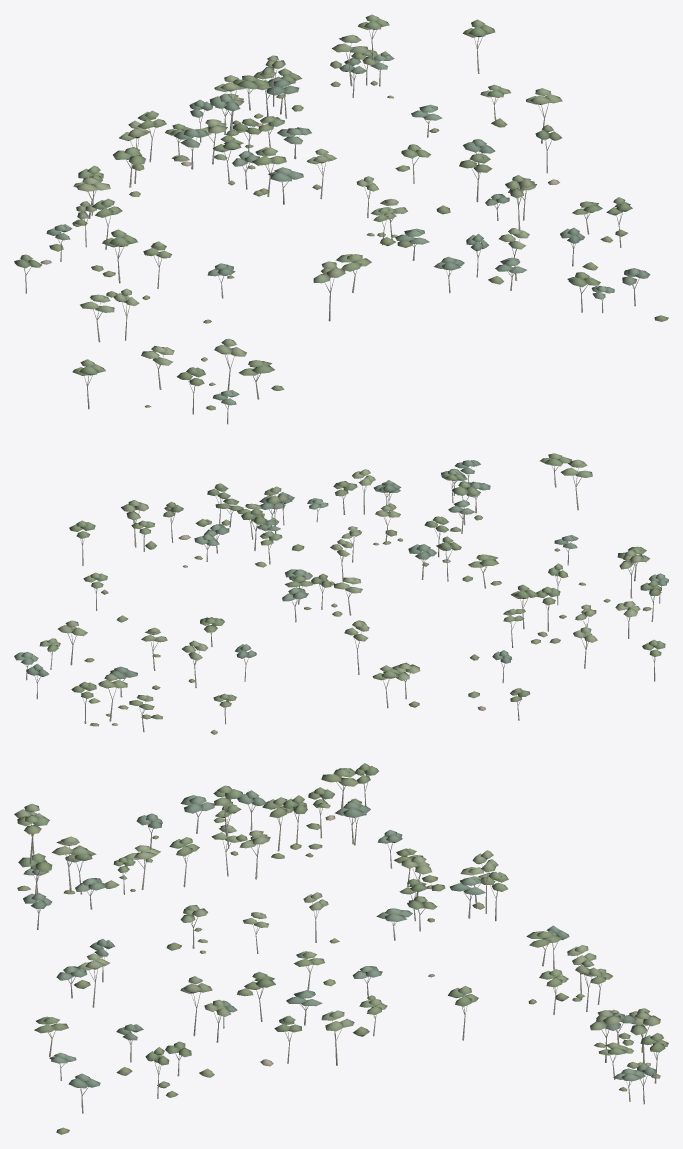
3 views of the same model, one above another, from view 1: azimuth 30°, elevation 25°; view 2: azimuth 150°, elevation 25°; view 3: azimuth 270°, elevation 25° (orthographic). The views are drawn at different scales.
Parts seen in each view (by area): view 1: Stage2 Vegetation Sector 01; view 2: Stage2 Vegetation Sector 01; view 3: Stage2 Vegetation Sector 01.
Part boxes in pixels (<box>): Stage2 Vegetation Sector 01: <box>14,14,668,424</box>; Stage2 Vegetation Sector 01: <box>14,453,668,734</box>; Stage2 Vegetation Sector 01: <box>14,763,668,1134</box>.
Bounding box in the file's own units: 155 × 52.71 × 156.
